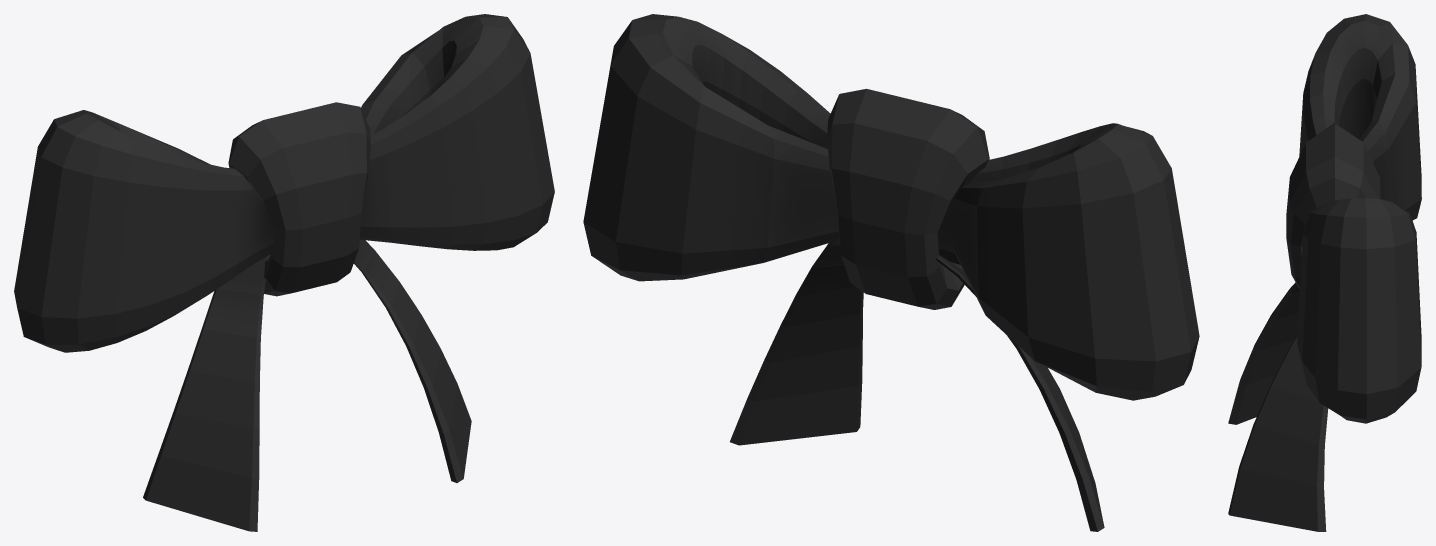
3 renders of one model, left to right at view 1: azimuth 30°, elevation 25°; view 2: azimuth 150°, elevation 25°; view 3: azimuth 270°, elevation 25°, orthographic. The views are drawn at different scales.
Visible parts, largest first — view 1: bow-tie; view 2: bow-tie; view 3: bow-tie.
Part boxes in pixels (left/top/right/bottom): bow-tie: left=14, top=14, right=554, bottom=531; bow-tie: left=583, top=14, right=1199, bottom=531; bow-tie: left=1228, top=14, right=1421, bottom=531.
Size of the model in its own units: 0.72 by 0.5044 by 0.246.
Materials: 1 (1 with a texture image).
